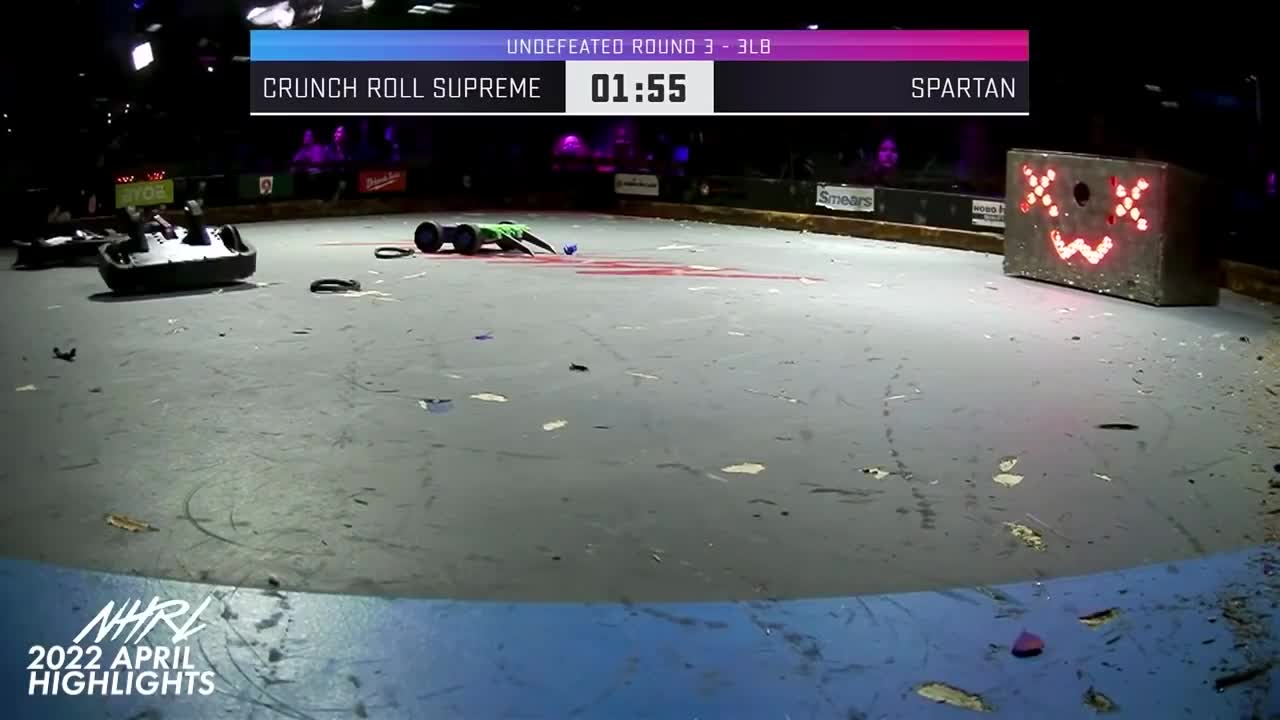belt: (308, 277, 360, 293), (372, 247, 427, 260)
combatbot: (98, 201, 256, 296), (412, 220, 557, 255), (14, 229, 117, 267)
debris: (50, 343, 79, 361)
housebot: (1002, 150, 1221, 307)
